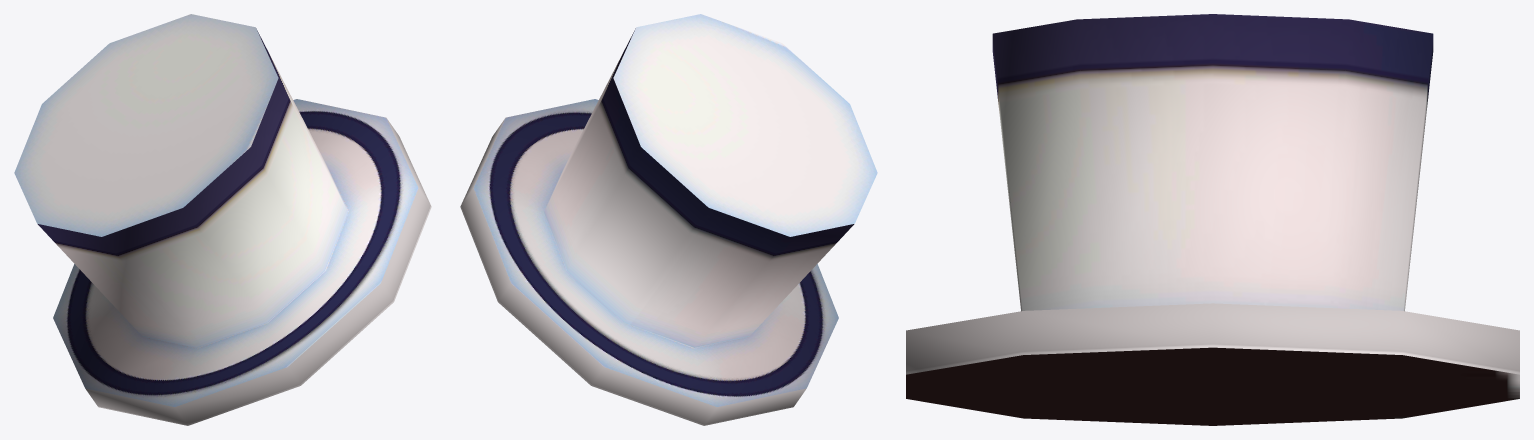
File: helm0078.fbx
3 views of the same model, side by side, from view 1: azimuth 30°, elevation 25°; view 2: azimuth 150°, elevation 25°; view 3: azimuth 270°, elevation 25° (orthographic). The views are drawn at different scales.
Parts seen in each view (by area): view 1: helm0078_m; view 2: helm0078_m; view 3: helm0078_m.
Boxes of the visible parts, x1,y1,x2,y2 form: helm0078_m: (14,14,431,425); helm0078_m: (460,14,877,425); helm0078_m: (906,14,1519,425).
Size of the model in its own units: 0.1487 by 0.134 by 0.1402.
